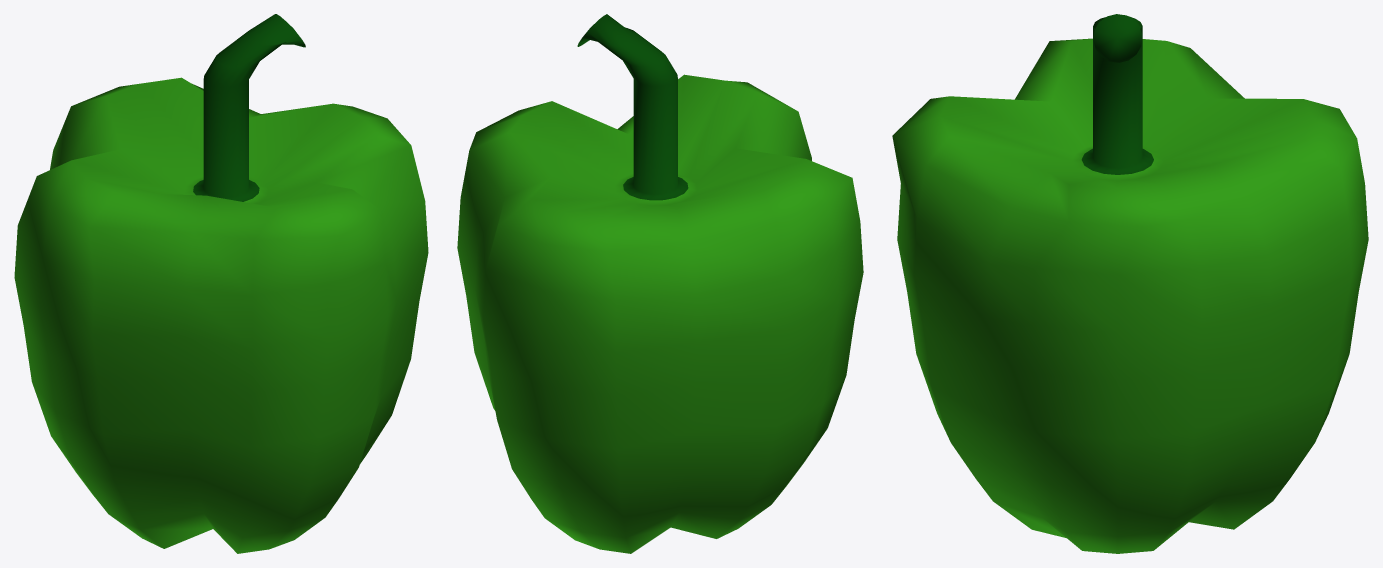
File: PIMENTON_VERDE.fbx
The picture shows the model from 3 angles, left to right: view 1: azimuth 30°, elevation 25°; view 2: azimuth 150°, elevation 25°; view 3: azimuth 270°, elevation 25°; orthographic projection. The views are drawn at different scales.
Visible parts, largest first — view 1: Sphere.002; view 2: Sphere.002; view 3: Sphere.002.
Boxes of the visible parts, x1,y1,x2,y2 form: Sphere.002: [14, 14, 428, 553]; Sphere.002: [457, 14, 863, 553]; Sphere.002: [892, 14, 1368, 553].
Size of the model in its own units: 217 by 281 by 228.
